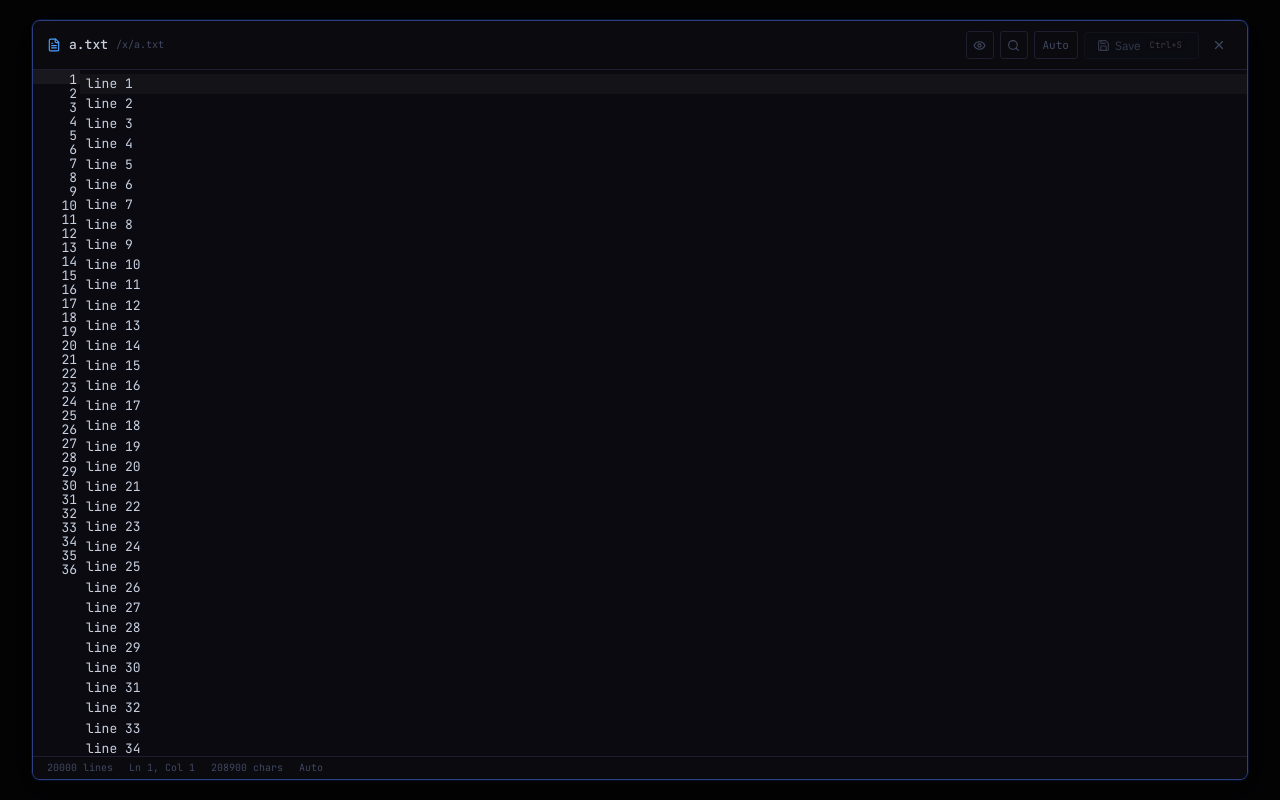
Test: 텍스트 영역 계약 — 에디터 (CT) › CT-05: 큰 파일(2만 줄) 로드 후 마지막 줄 검색 시 커서가 마지막 줄로 이동
Check: the text "20000 lines" is shown, box [47, 761, 113, 775]
Step 1. Press f
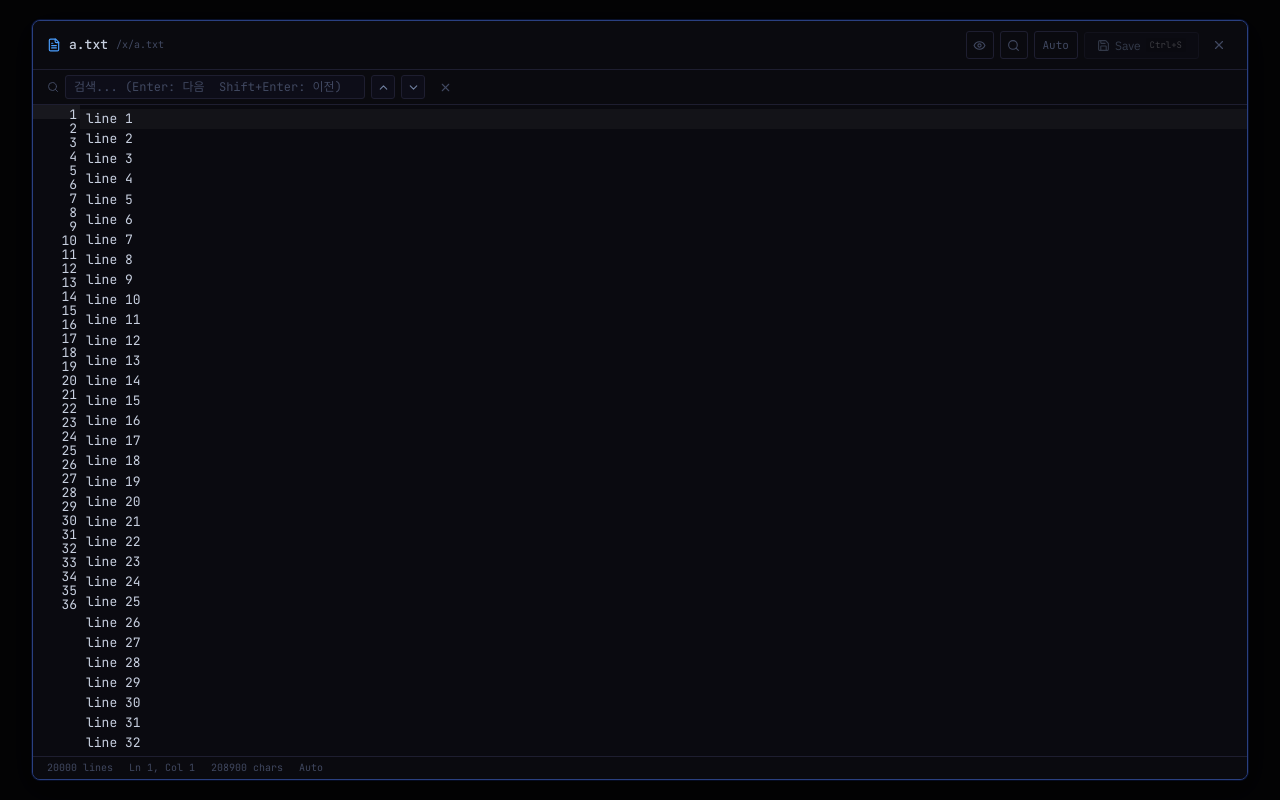
Step 2. Type "needle-at" into the field with placeholder "검색... (Enter: 다음 Shift+Enter: 이전)" → (215, 87), box [65, 75, 365, 99]
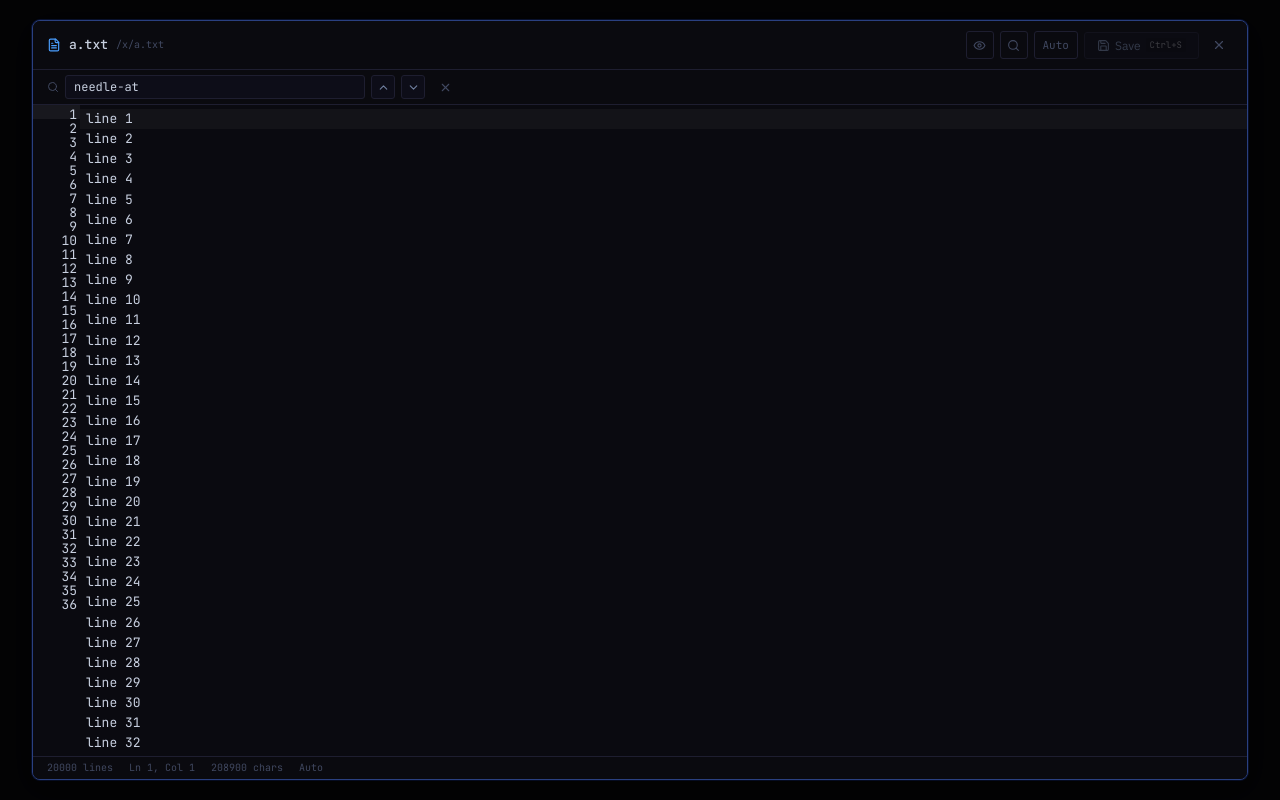
Step 3. Press Enter in the field with placeholder "검색... (Enter: 다음 Shift+Enter: 이전)", box [65, 75, 365, 99]
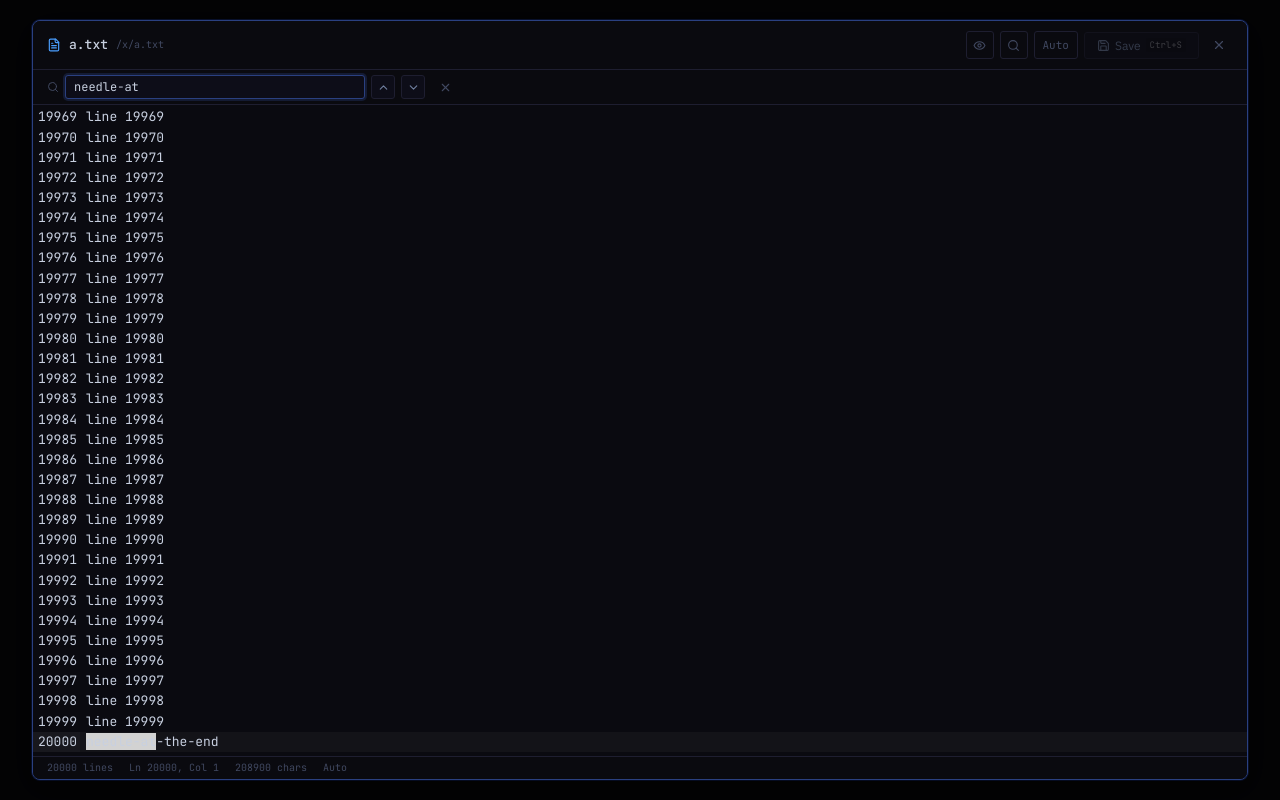
Check: the text "Ln 20000, Col 1" is shown, box [129, 761, 219, 775]
